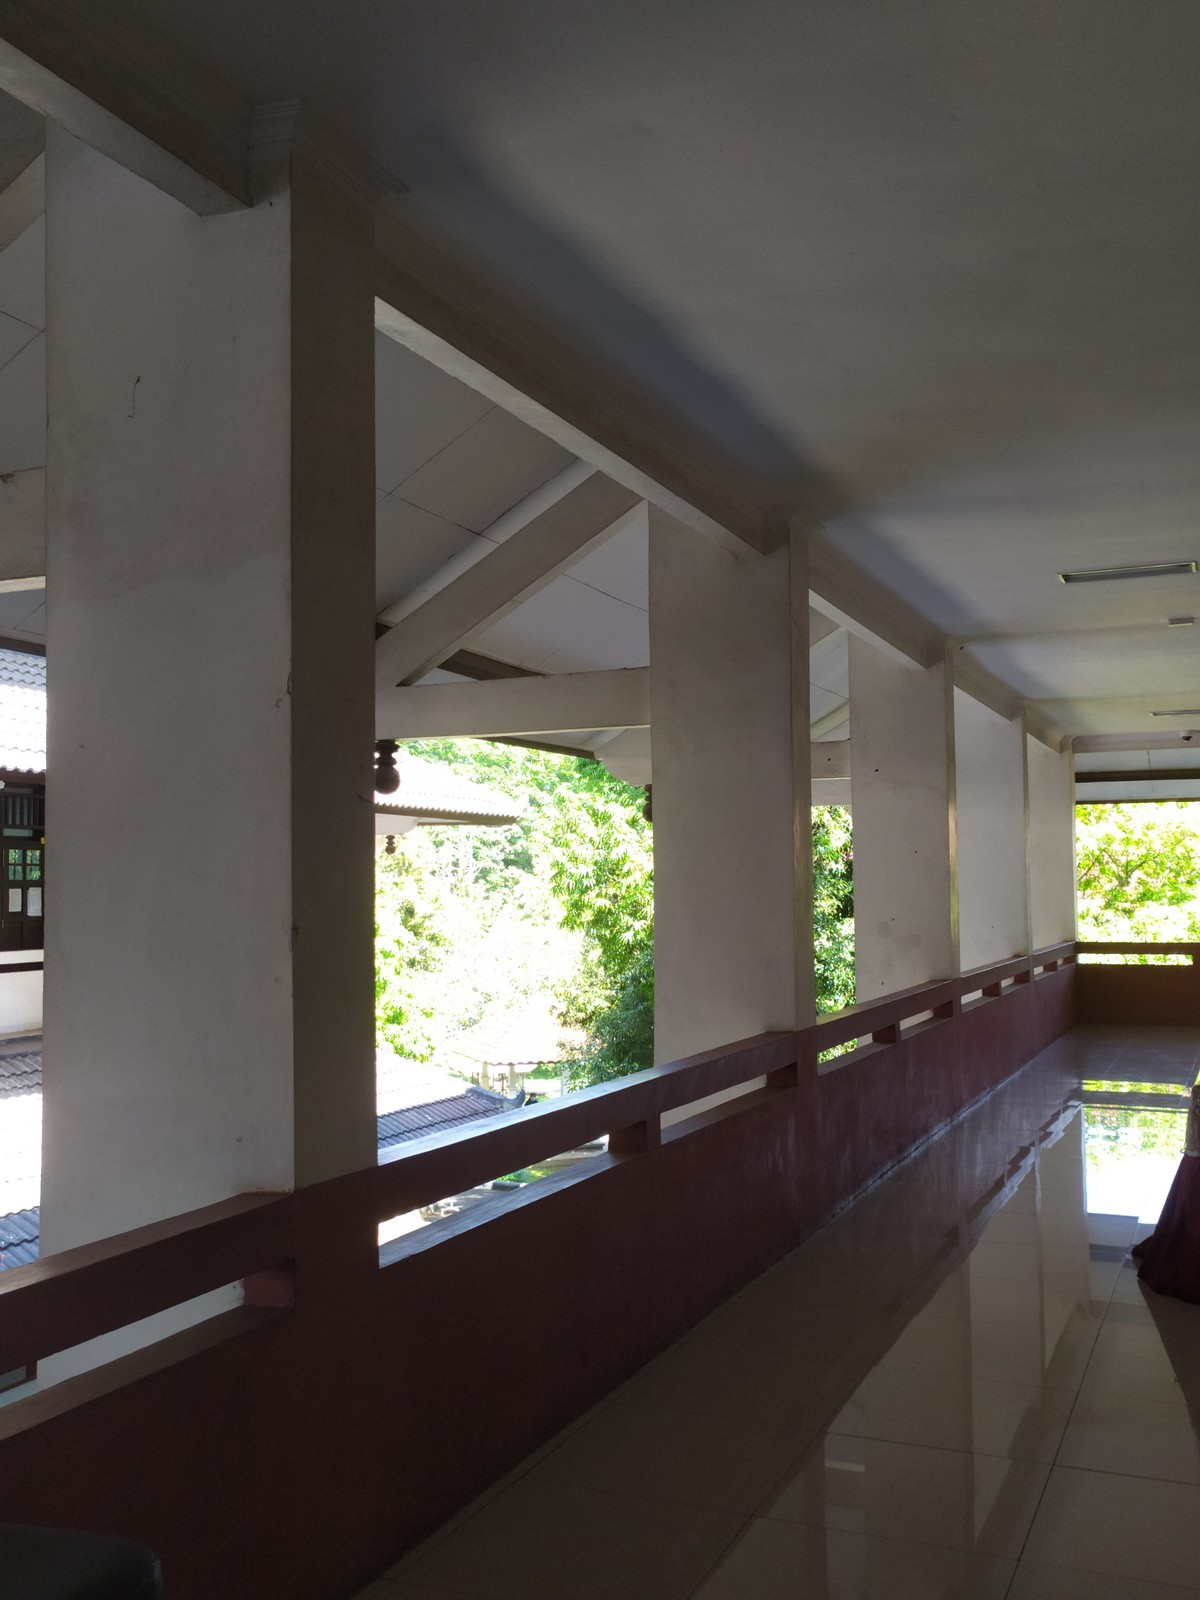concrete beam: (384, 656, 658, 755)
concrete column: (37, 174, 384, 1232), (642, 527, 822, 1062), (845, 653, 968, 1003)
